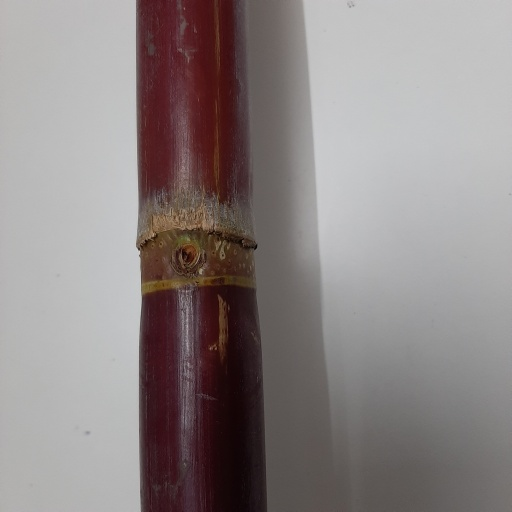Damage_Bud: (177, 243, 201, 273)
